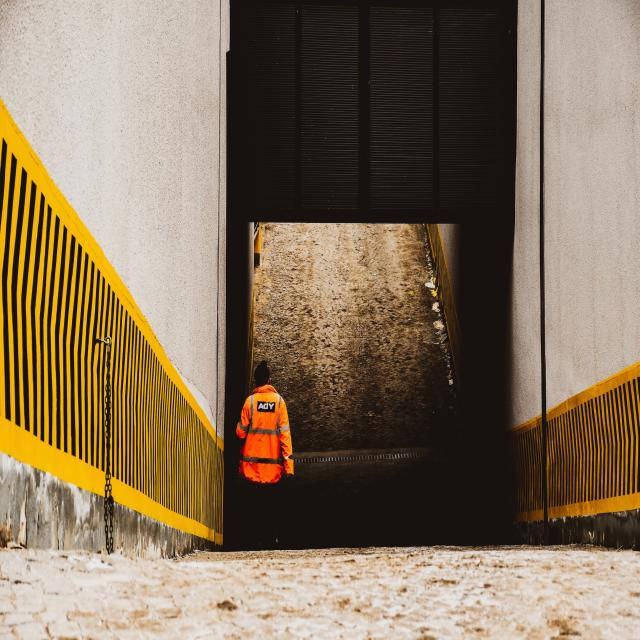adult: (235, 363, 291, 551)
